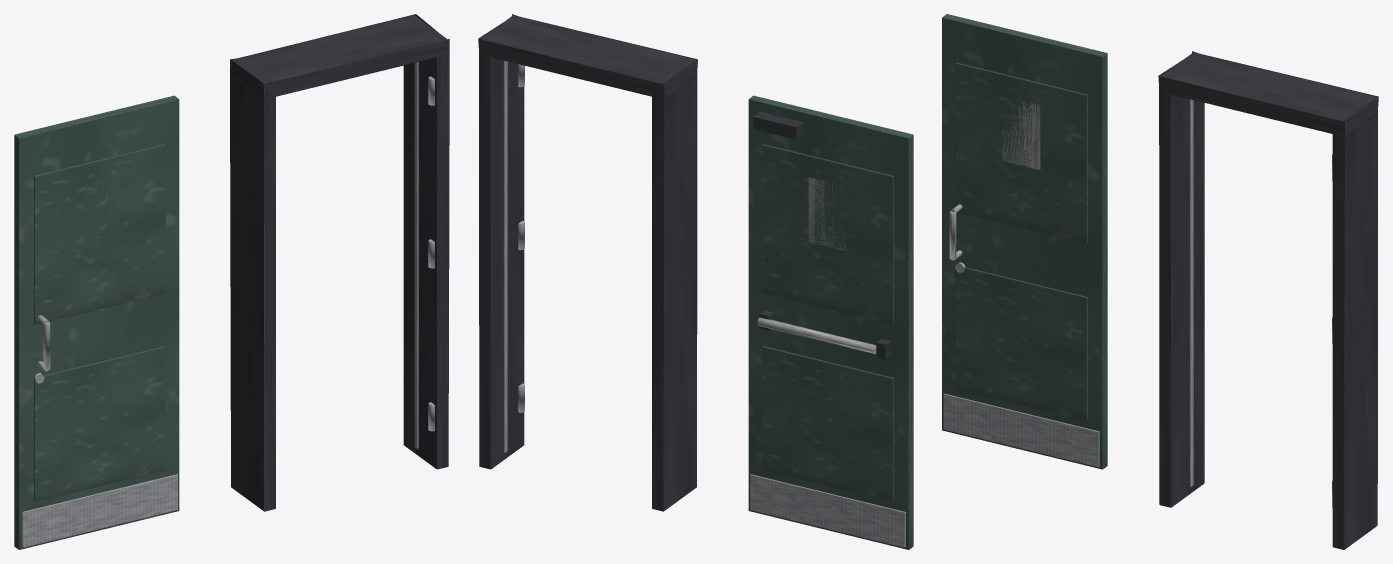
File: kebap_backdoor.fbx
3 views of the same model, side by side, from view 1: azimuth 30°, elevation 25°; view 2: azimuth 150°, elevation 25°; view 3: azimuth 330°, elevation 25° (orthographic).
Visible parts, largest first — view 1: Leaf, Frame; view 2: Leaf, Frame; view 3: Leaf, Frame.
Part boxes in pixels (x1,y1,x2,y2): Leaf: (14, 95, 179, 549); Frame: (230, 14, 449, 511); Leaf: (748, 95, 913, 549); Frame: (478, 14, 697, 511); Leaf: (942, 14, 1107, 469); Frame: (1158, 51, 1378, 549).
Bounding box in the file's own units: 856 × 841 × 120.
Materials: 1 (1 with a texture image).
